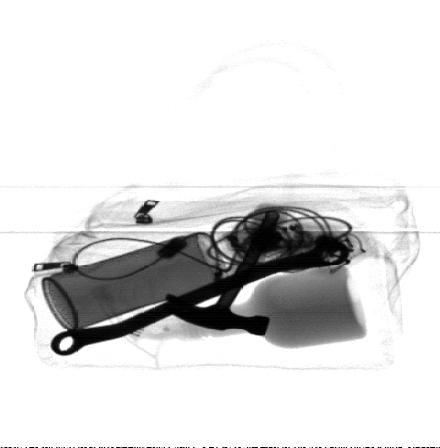Hammer: (168, 209, 279, 336)
Wrench: (51, 240, 350, 356)
